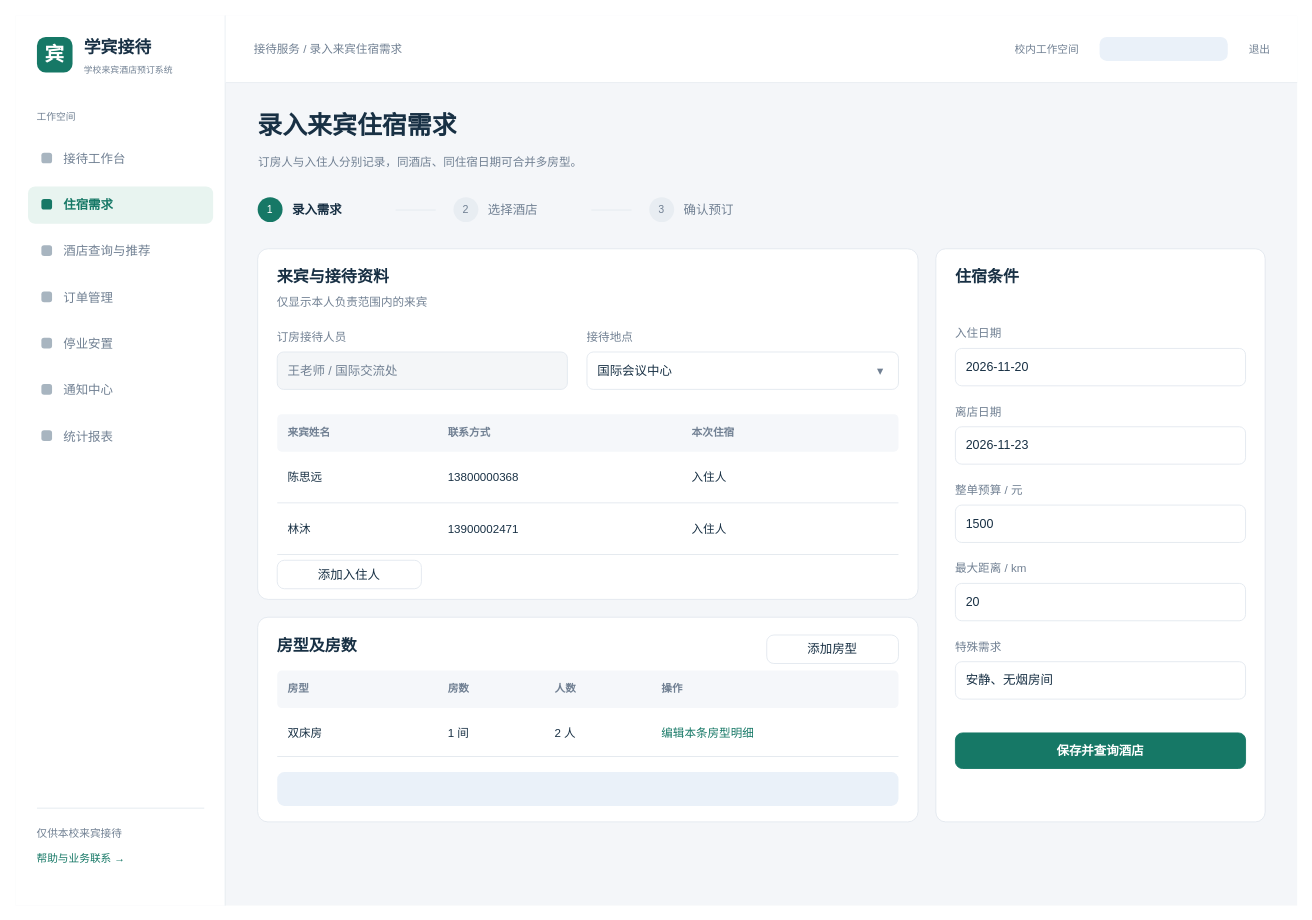
Some shapes in this 1312 by 920 pixel diagram are drawn without their labels. Each missing label, with the box of its shape:
不同酒店或不同日期请分别下单；所有明细一起成功或失败。: (277, 772, 898, 805)
学校接待人员: (1099, 36, 1227, 61)
